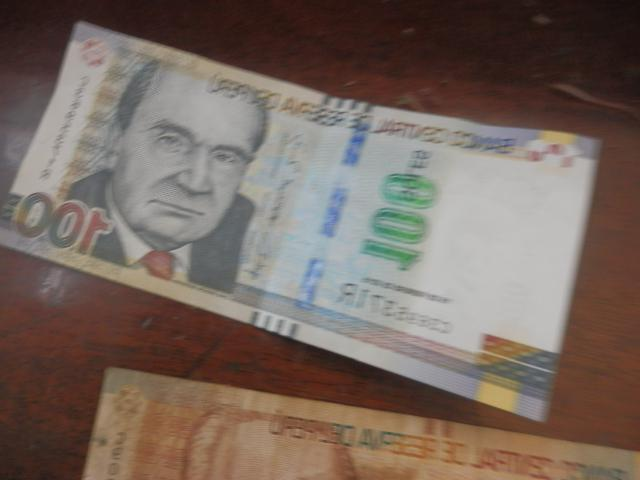B100: (3, 19, 600, 422)
